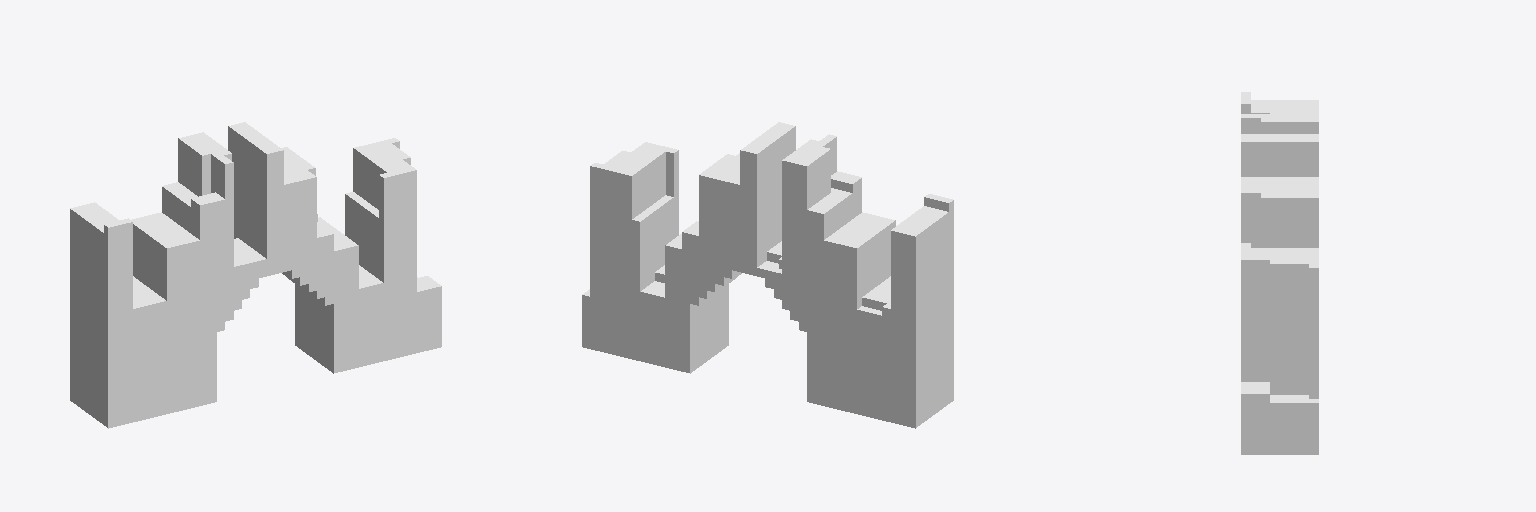
The model's file is defence.vox-0-3.obj.
3 views of the same model, side by side, from view 1: azimuth 30°, elevation 25°; view 2: azimuth 150°, elevation 25°; view 3: azimuth 270°, elevation 25° (orthographic).
Parts seen in each view (by area): view 1: 3; view 2: 3; view 3: 3.
Part boxes in pixels (bbox=[...]): 3: bbox=[70, 122, 441, 428]; 3: bbox=[582, 122, 953, 428]; 3: bbox=[1241, 92, 1318, 454].
Bounding box in the file's own units: 4 × 2.7 × 0.8.